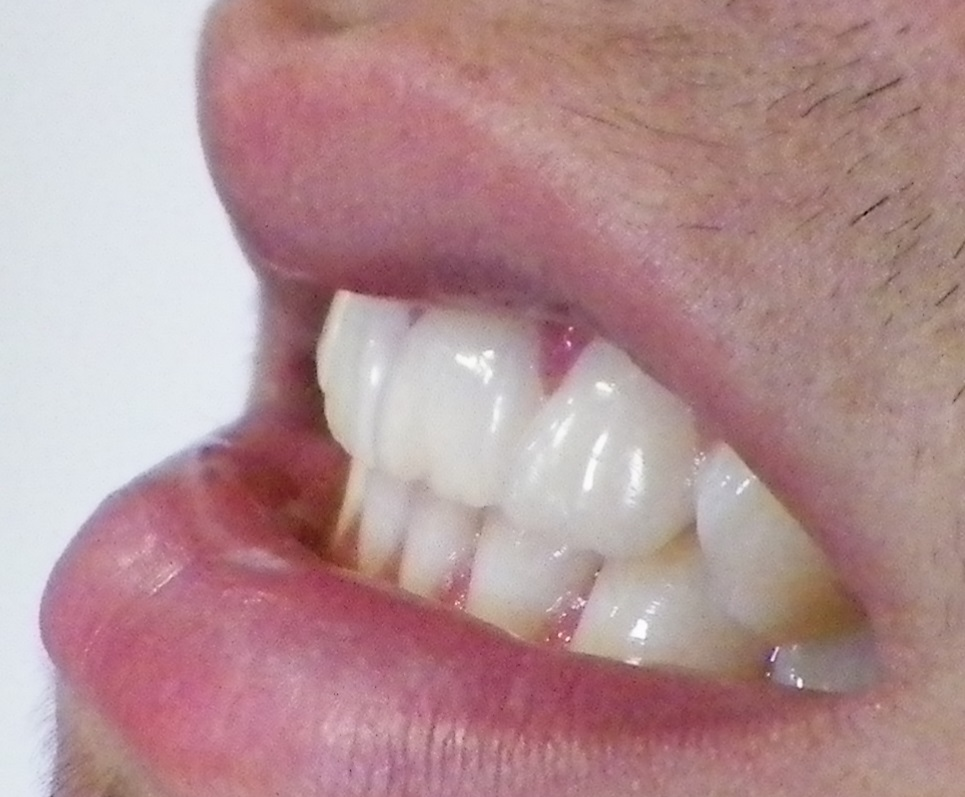boca: (314, 283, 895, 700)
